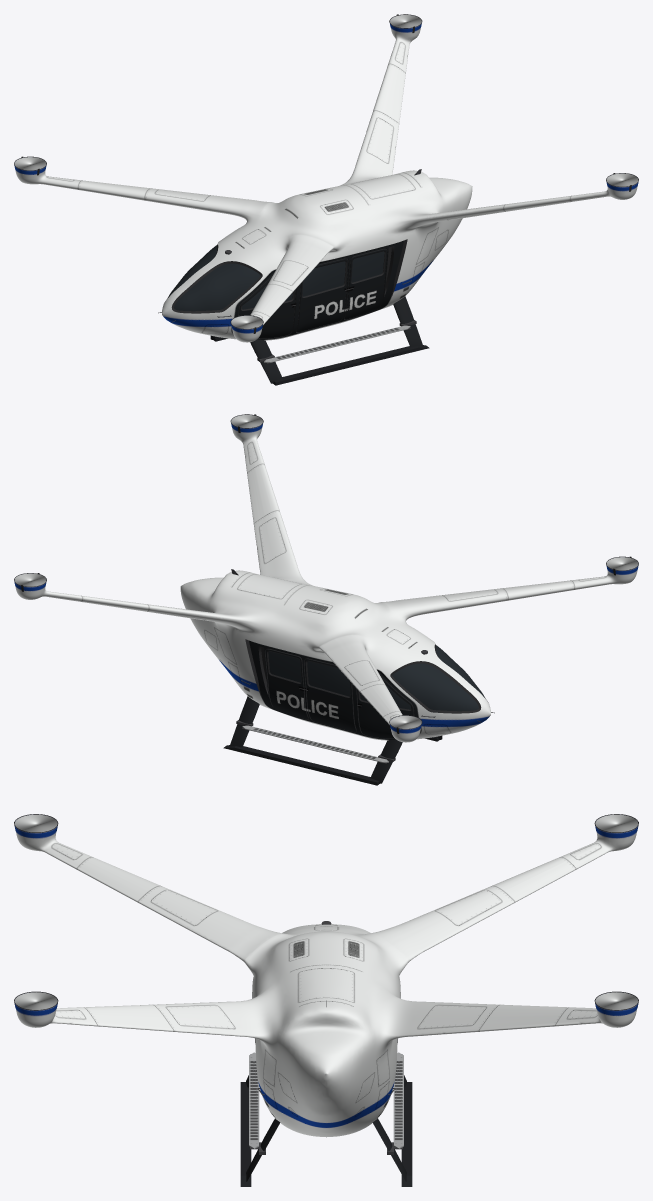
File: body.glb
3 views of the same model, one above another, from view 1: azimuth 30°, elevation 25°; view 2: azimuth 150°, elevation 25°; view 3: azimuth 270°, elevation 25° (orthographic). The views are drawn at different scales.
Visible parts, largest first — view 1: body.001; view 2: body.001; view 3: body.001.
Boxes of the visible parts, <box> form: body.001: <box>14,14,638,385</box>; body.001: <box>14,414,638,785</box>; body.001: <box>14,814,638,1186</box>.
Size of the model in its own units: 8.16 by 3.8 by 8.16.
1 material, 1 textured.
